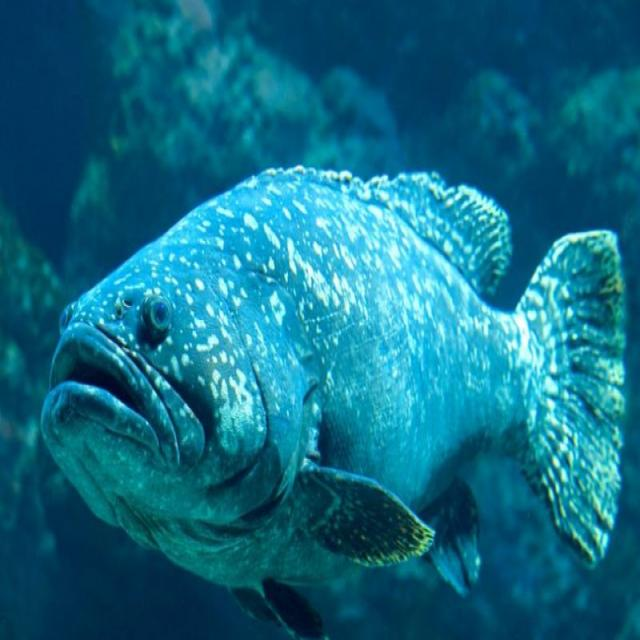grouper: (40, 153, 626, 598)
